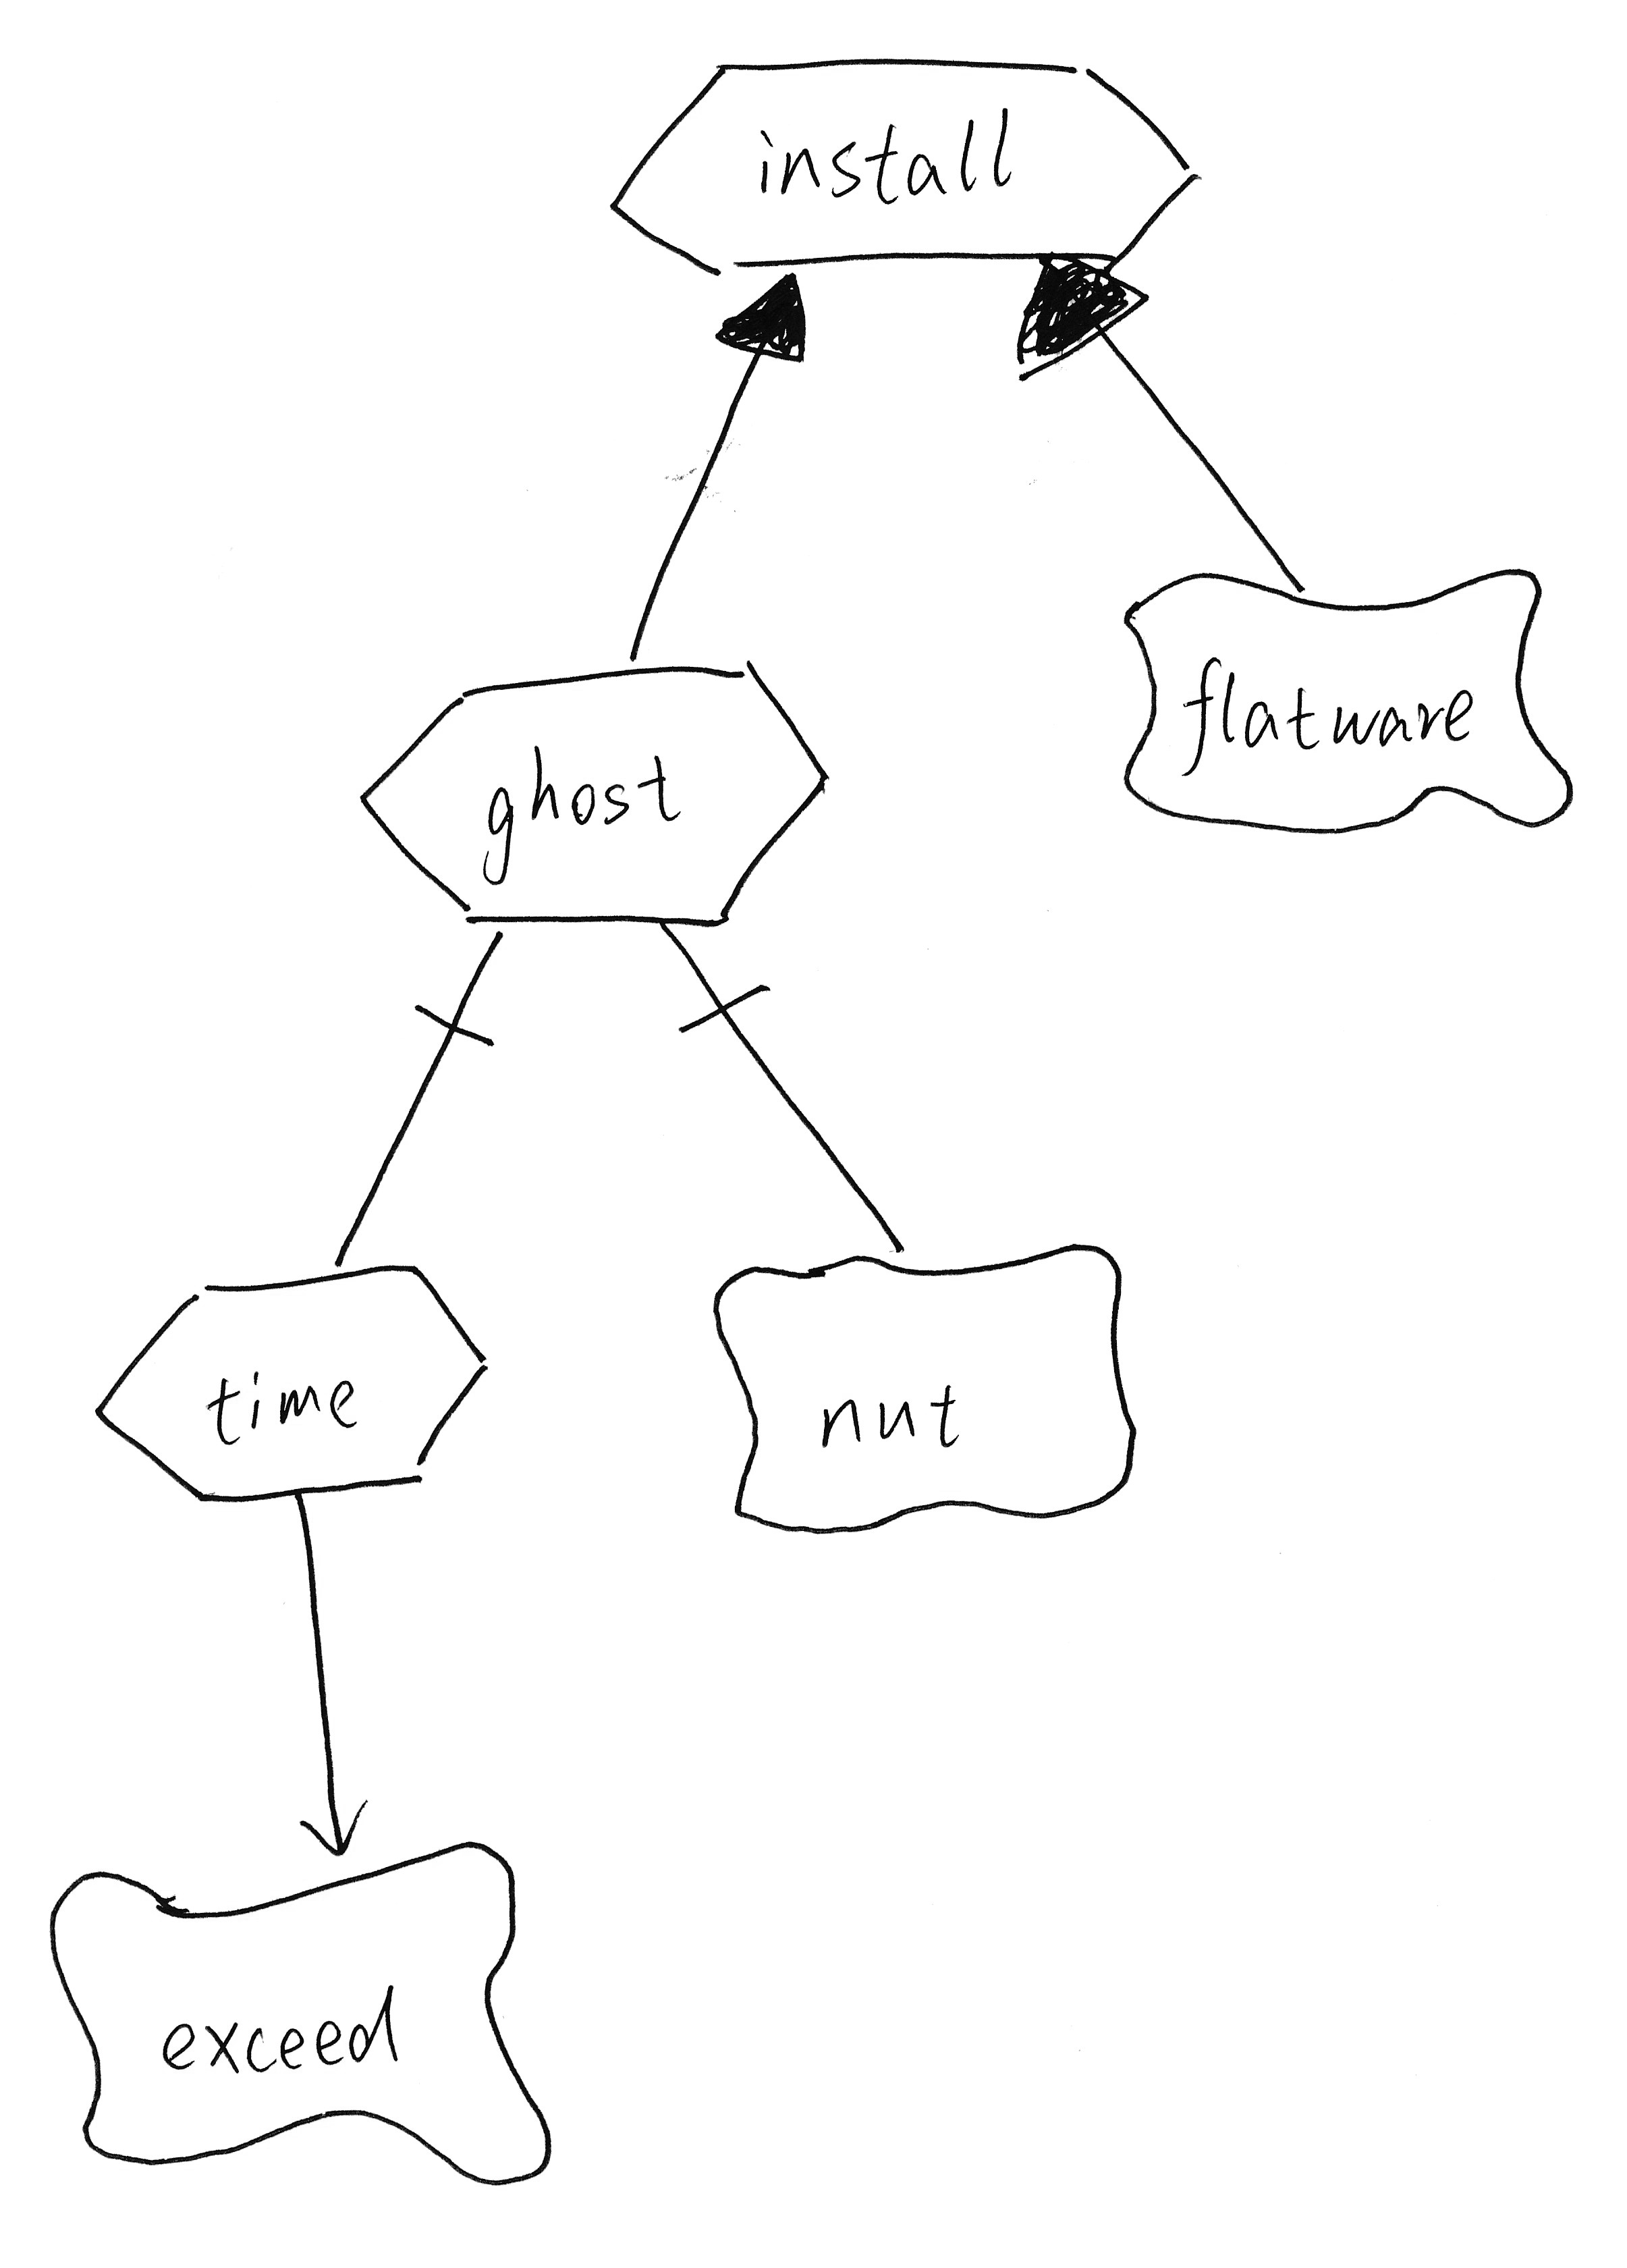and: (643, 898, 778, 1039), (410, 928, 521, 1064)
arrow: (294, 1794, 384, 1872)
or: (998, 241, 1160, 391), (706, 266, 828, 387)
quality: (26, 1823, 578, 2203), (1101, 551, 1601, 859), (690, 1226, 1171, 1543)
task: (586, 32, 1226, 298), (338, 641, 852, 944), (76, 1247, 511, 1523)
